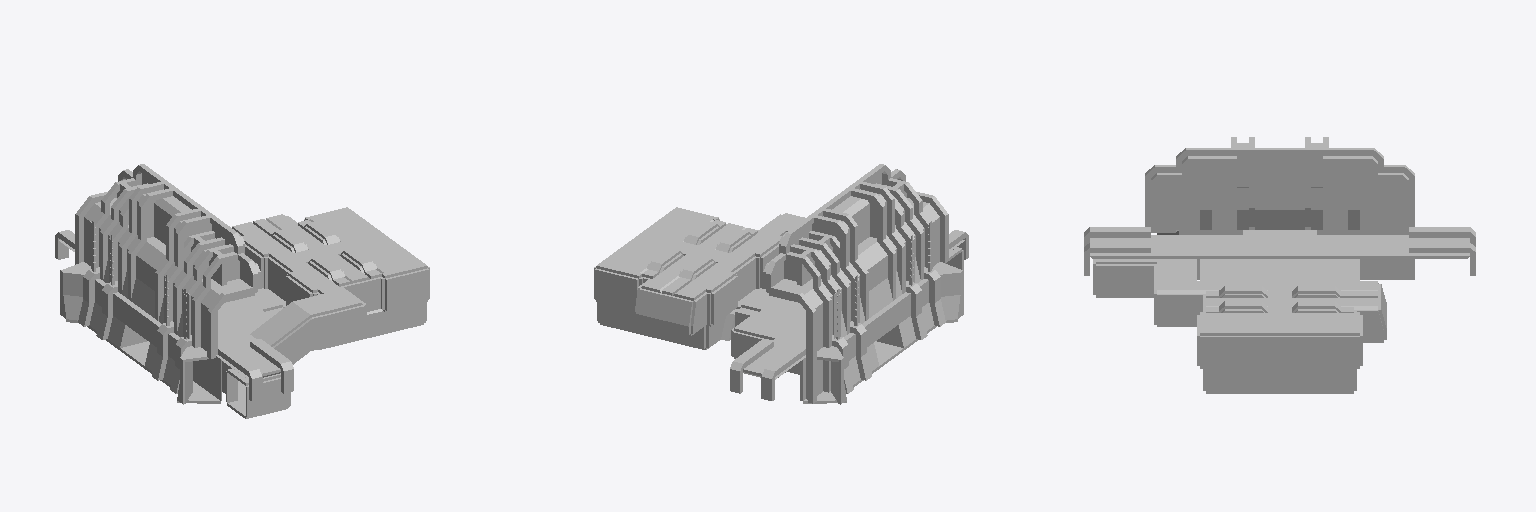
Rendered from atcs-side.obj.
3 views of the same model, side by side, from view 1: azimuth 30°, elevation 25°; view 2: azimuth 150°, elevation 25°; view 3: azimuth 270°, elevation 25° (orthographic).
Visible parts, largest first — view 1: entity0_brush521, entity0_brush536, entity0_brush530, entity0_brush386, entity0_brush436, entity0_brush1, entity0_brush2, entity0_brush532, entity0_brush426, entity0_brush747, entity0_brush531, entity0_brush712 (+4 smaller); view 2: entity0_brush522, entity0_brush530, entity0_brush536, entity0_brush386, entity0_brush532, entity0_brush2, entity0_brush61, entity0_brush531, entity0_brush747, entity0_brush181, entity0_brush176, entity0_brush712 (+6 smaller); view 3: entity0_brush2, entity0_brush530, entity0_brush536, entity0_brush222, entity0_brush549, entity0_brush552, entity0_brush630, entity0_brush0, entity0_brush386, entity0_brush105, entity0_brush160, entity0_brush387 (+18 smaller).
Boxes of the visible parts, <box> form: entity0_brush521: <box>364,302,425,337</box>; entity0_brush536: <box>358,241,423,273</box>; entity0_brush530: <box>310,210,380,241</box>; entity0_brush386: <box>287,262,362,309</box>; entity0_brush436: <box>273,313,333,349</box>; entity0_brush1: <box>193,356,221,400</box>; entity0_brush2: <box>59,240,280,379</box>; entity0_brush532: <box>232,222,292,259</box>; entity0_brush426: <box>253,304,306,343</box>; entity0_brush747: <box>125,301,154,341</box>; entity0_brush531: <box>266,214,325,249</box>; entity0_brush712: <box>222,299,267,324</box>; entity0_brush522: <box>598,302,705,348</box>; entity0_brush530: <box>600,241,665,273</box>; entity0_brush536: <box>643,210,713,241</box>; entity0_brush386: <box>731,213,803,259</box>; entity0_brush532: <box>673,262,736,300</box>; entity0_brush2: <box>743,240,964,379</box>; entity0_brush61: <box>808,311,816,403</box>; entity0_brush531: <box>641,255,697,292</box>; entity0_brush747: <box>869,301,898,341</box>; entity0_brush181: <box>823,300,831,392</box>; entity0_brush176: <box>806,303,822,399</box>; entity0_brush712: <box>747,299,801,326</box>; entity0_brush2: <box>1090,235,1469,258</box>; entity0_brush530: <box>1292,313,1353,335</box>; entity0_brush536: <box>1206,313,1267,335</box>; entity0_brush222: <box>1262,156,1297,191</box>; entity0_brush549: <box>1212,336,1261,358</box>; entity0_brush552: <box>1298,336,1347,358</box>; entity0_brush630: <box>1237,267,1322,280</box>; entity0_brush0: <box>1360,259,1414,277</box>; entity0_brush386: <box>1157,281,1267,293</box>; entity0_brush105: <box>1182,156,1236,174</box>; entity0_brush160: <box>1323,156,1377,174</box>; entity0_brush387: <box>1096,264,1132,287</box>.
Size of the model in its own units: 1616 by 848 by 2048.